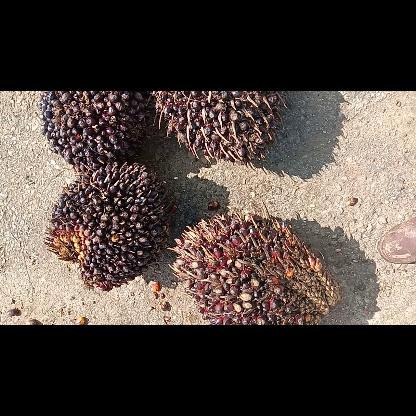TBS mentah: (168, 200, 342, 324), (43, 161, 170, 290), (152, 91, 286, 165), (39, 90, 151, 172)
